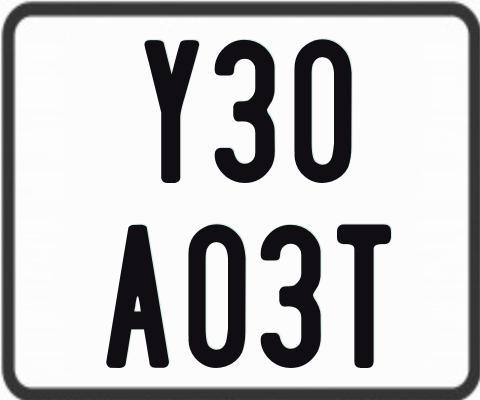0: (186, 224, 249, 373), (291, 38, 351, 183)
3: (261, 223, 327, 369), (215, 37, 278, 184)
A: (106, 222, 171, 368)
T: (335, 222, 395, 367)
Y: (143, 39, 203, 184)
